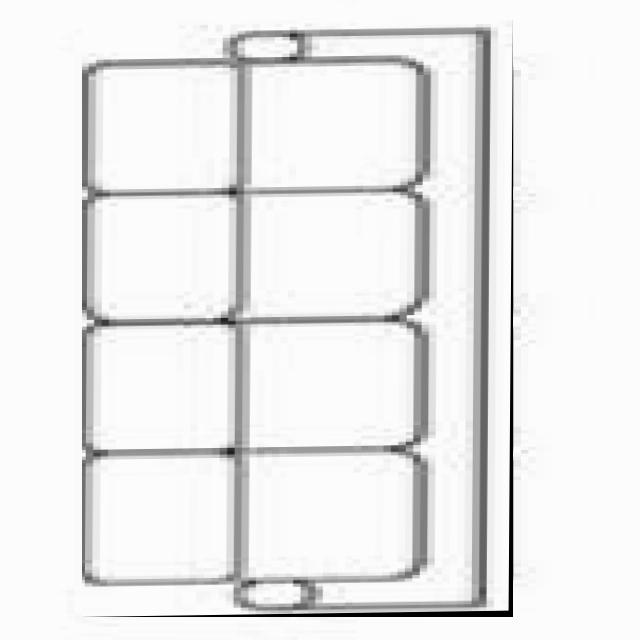sofa: (82, 20, 513, 617)
